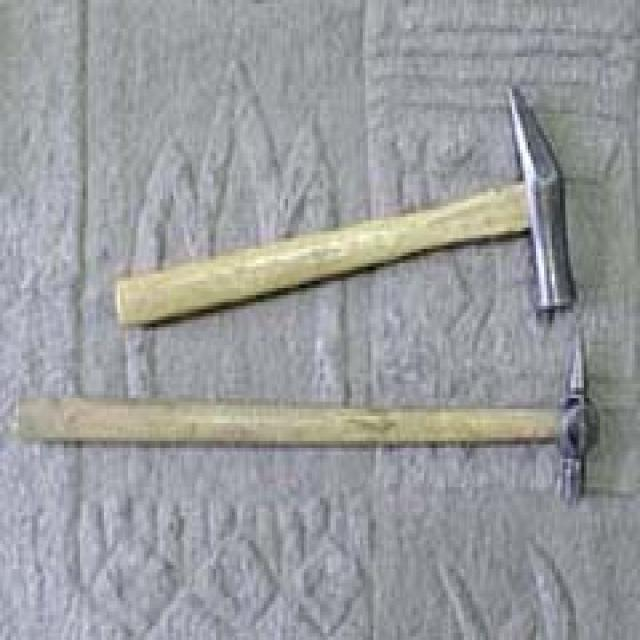hammer: (106, 67, 596, 350), (7, 324, 607, 517)
